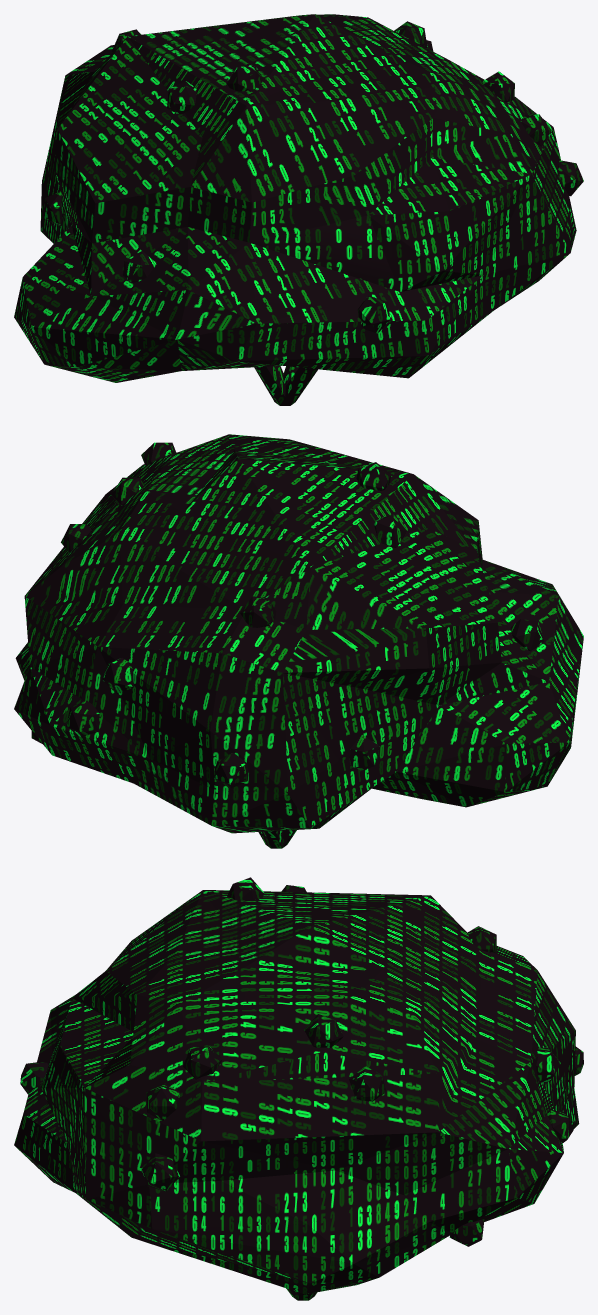
The model's file is Bush_Berries_Red_code.fbx.
The picture shows the model from 3 angles, top to bottom: view 1: azimuth 30°, elevation 25°; view 2: azimuth 150°, elevation 25°; view 3: azimuth 270°, elevation 25°; orthographic projection. The views are drawn at different scales.
Visible parts, largest first — view 1: Bush_Berries_Red_code; view 2: Bush_Berries_Red_code; view 3: Bush_Berries_Red_code.
Boxes of the visible parts, left/top/right/bottom form: Bush_Berries_Red_code: left=14, top=14, right=583, bottom=405; Bush_Berries_Red_code: left=14, top=434, right=583, bottom=848; Bush_Berries_Red_code: left=14, top=877, right=583, bottom=1300.
Size of the model in its own units: 1.32 by 0.9361 by 1.25.
Materials: 1 (1 with a texture image).
